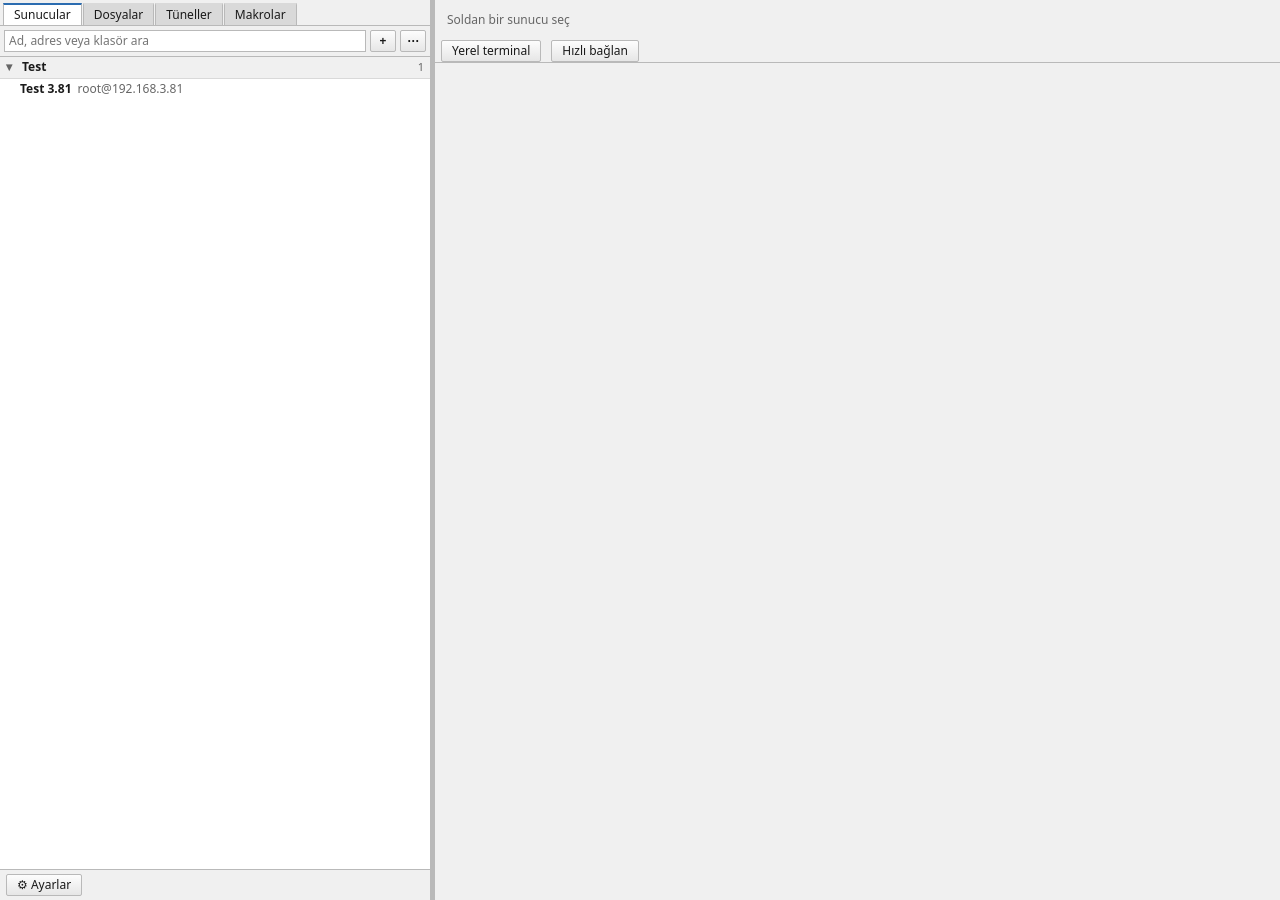
Test: backend errors are shown in the chosen language
Expected: the text "Test 3.81" is shown, [20, 81, 72, 97]
Click the button "⚙ Ayarlar" at (44, 885), box [6, 874, 82, 896]
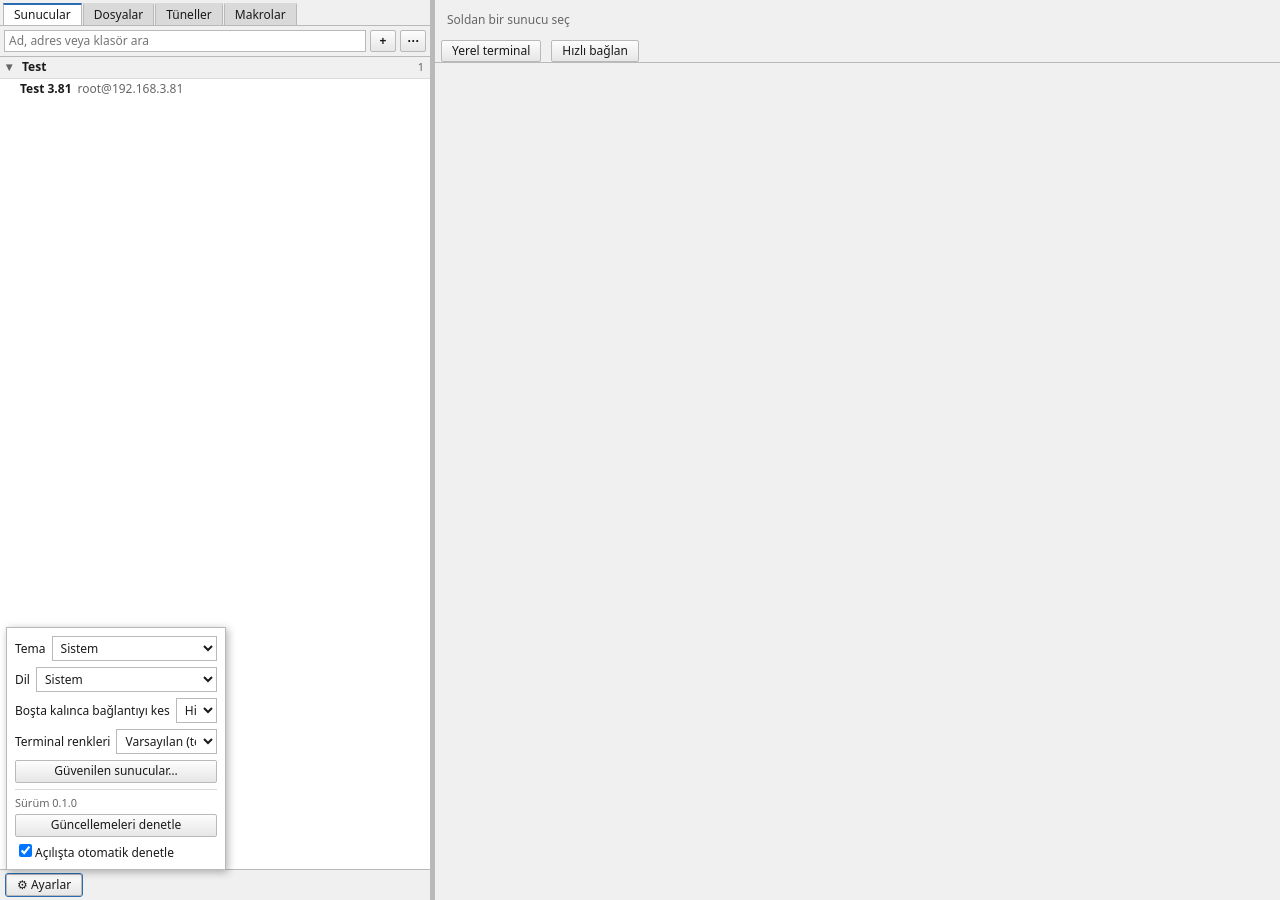
Select "English" in the dropdown labelled "Dil" at (126, 680), box [36, 667, 217, 692]
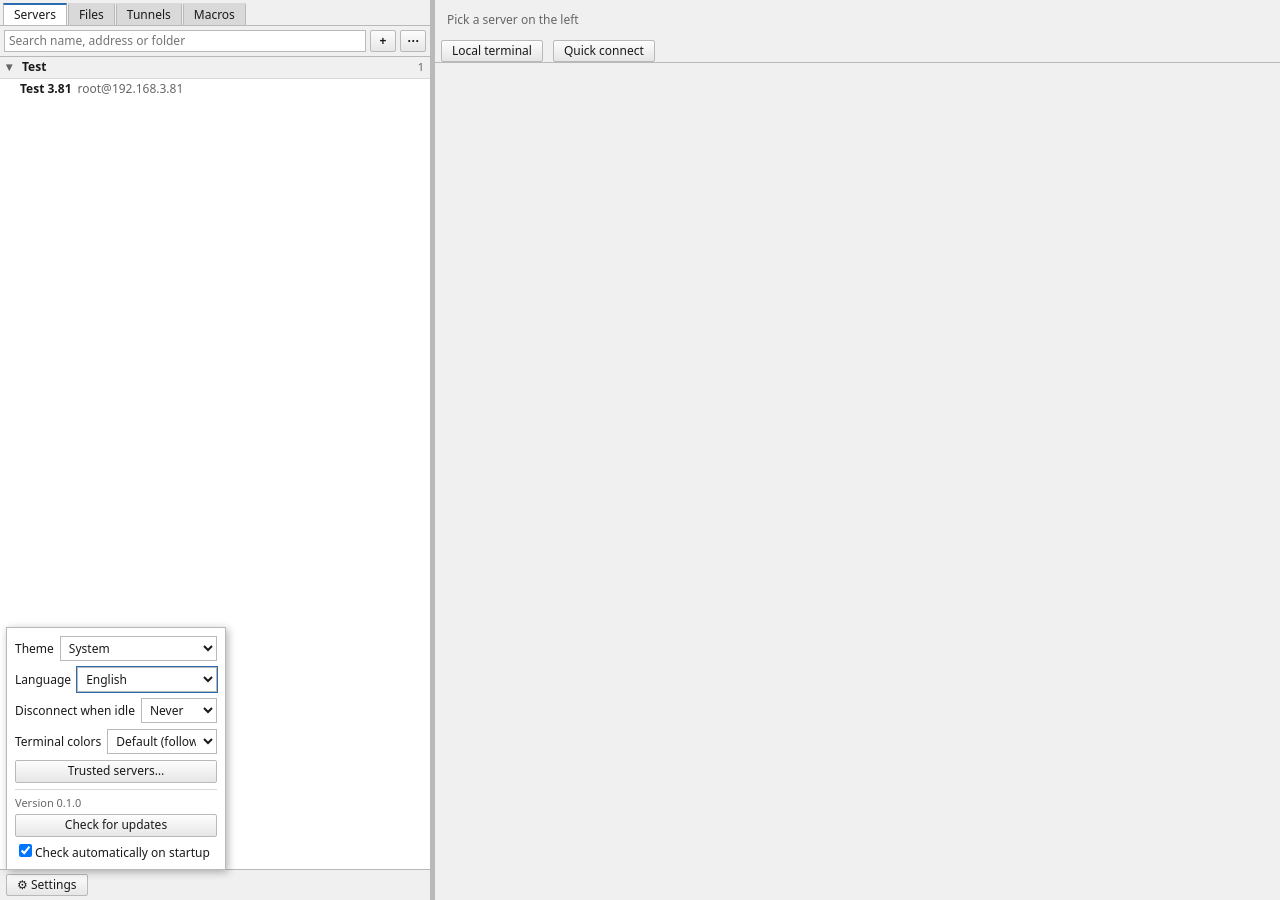
Click the button named "Add server" at (383, 41), box [370, 30, 396, 52]
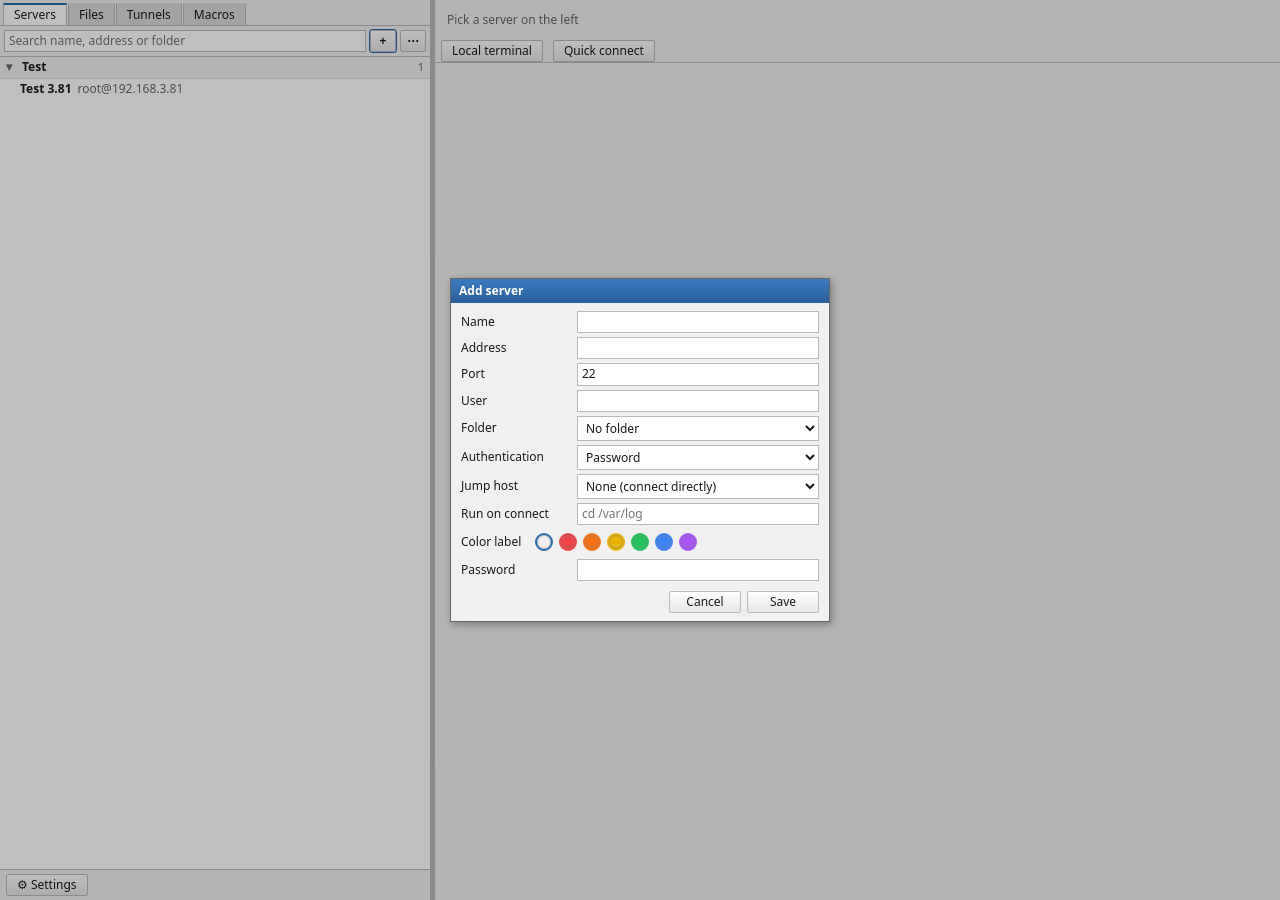
Type "x" into the field labelled "Name" at (698, 322), box [577, 311, 819, 333]
Type "h" into the field labelled "Address" at (698, 348), box [577, 337, 819, 359]
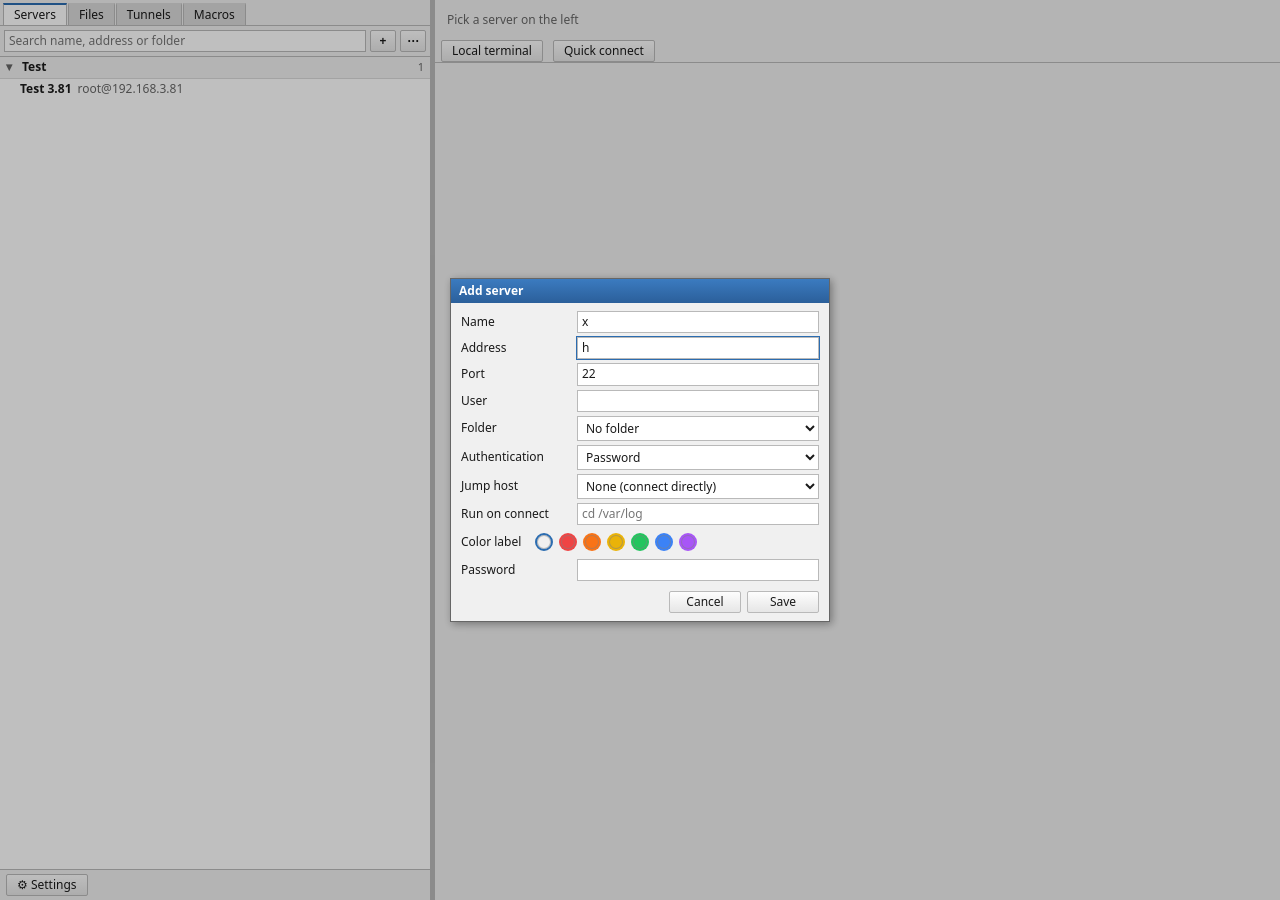
Type "u" into the field labelled "User" at (698, 401), box [577, 390, 819, 412]
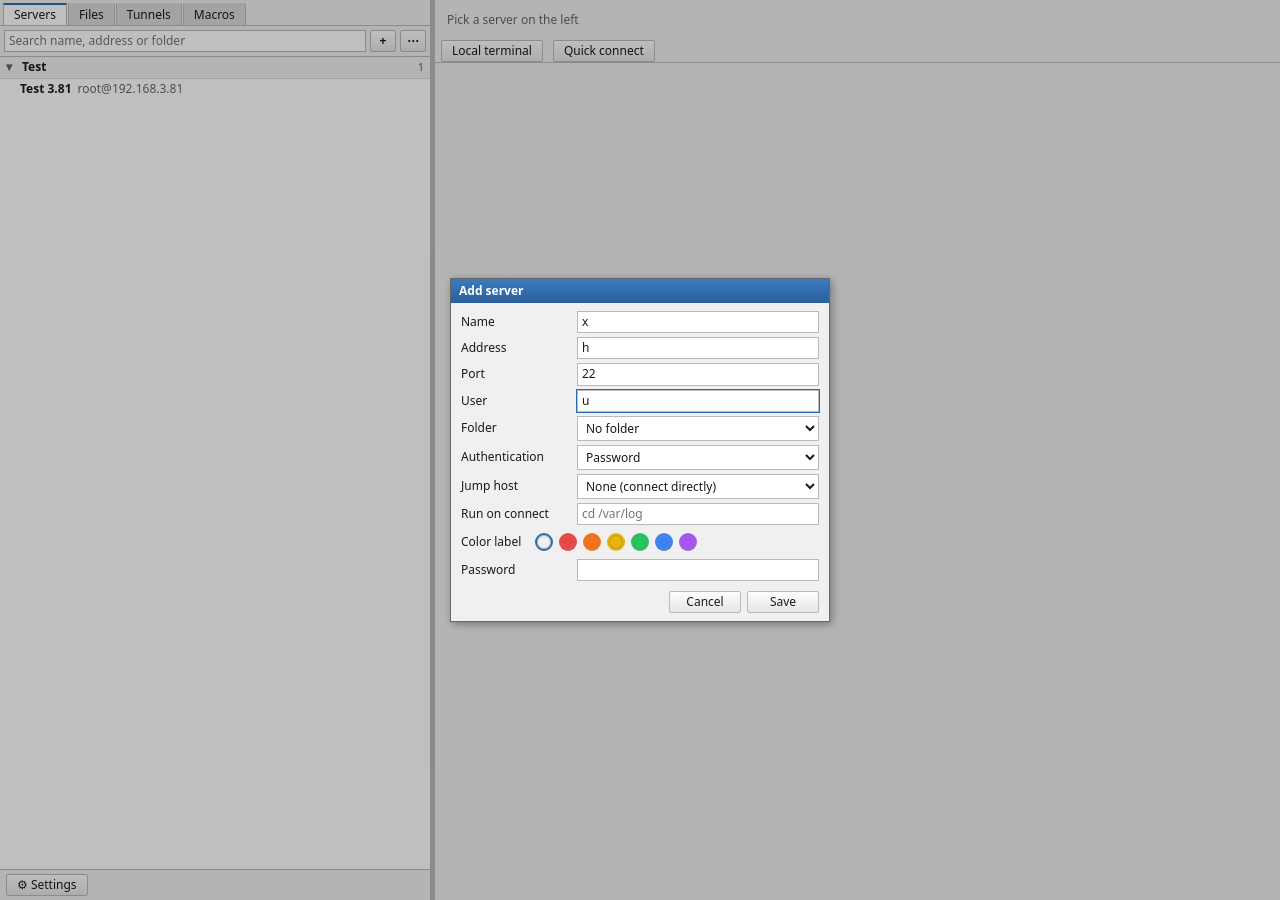
Click the button "Save" at (783, 602), box [747, 591, 819, 613]
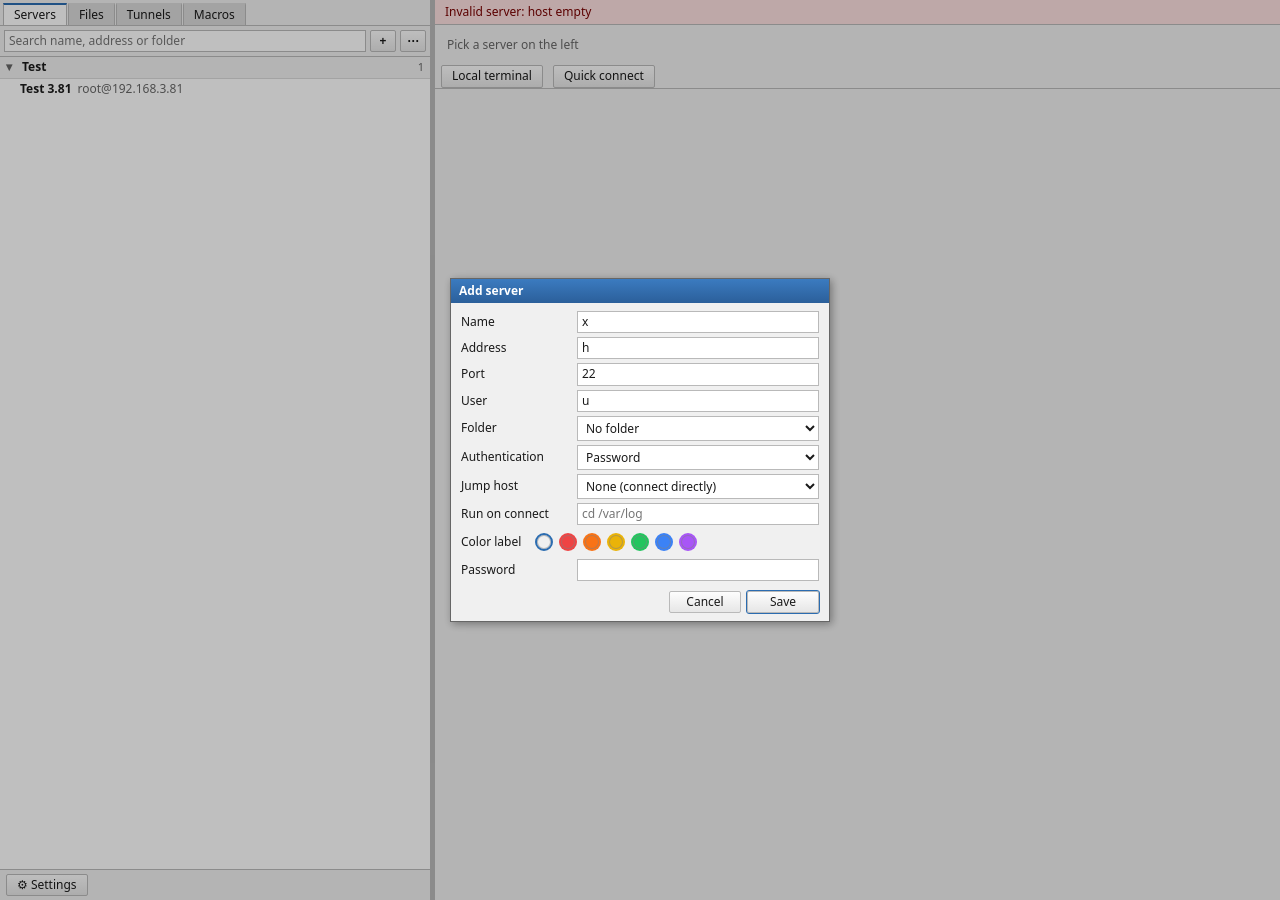
Expected: the text "Invalid server: host empty" is shown, [435, 0, 1279, 25]
